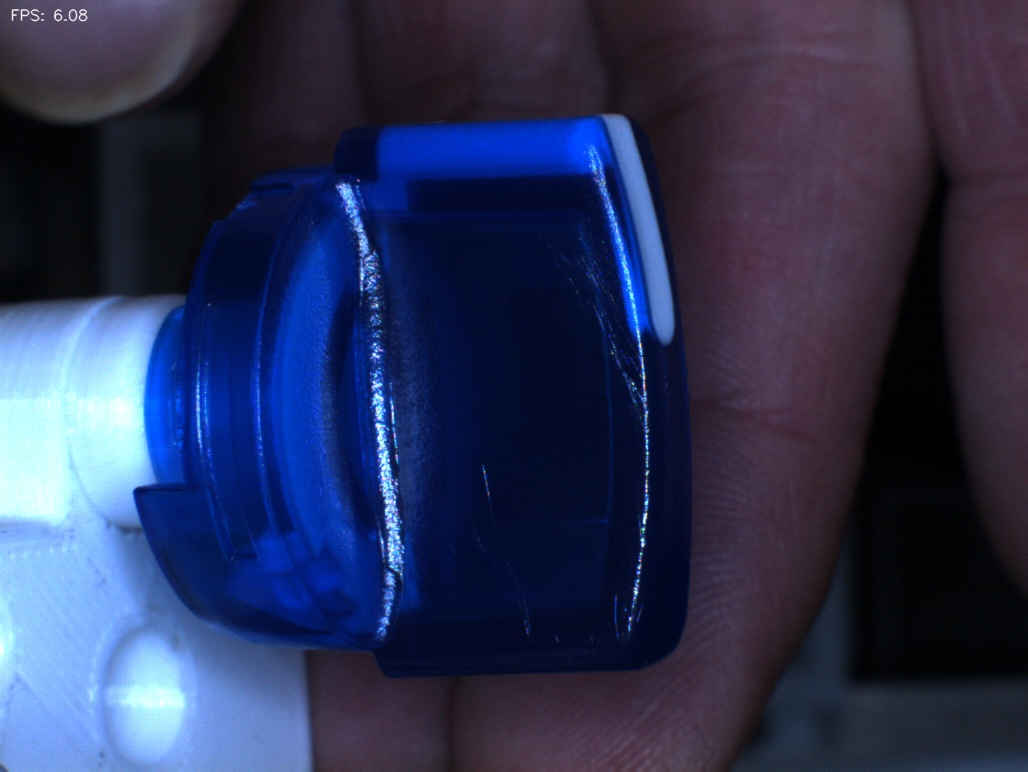Givrage: (447, 459, 547, 642), (539, 217, 629, 394), (589, 556, 655, 652)
